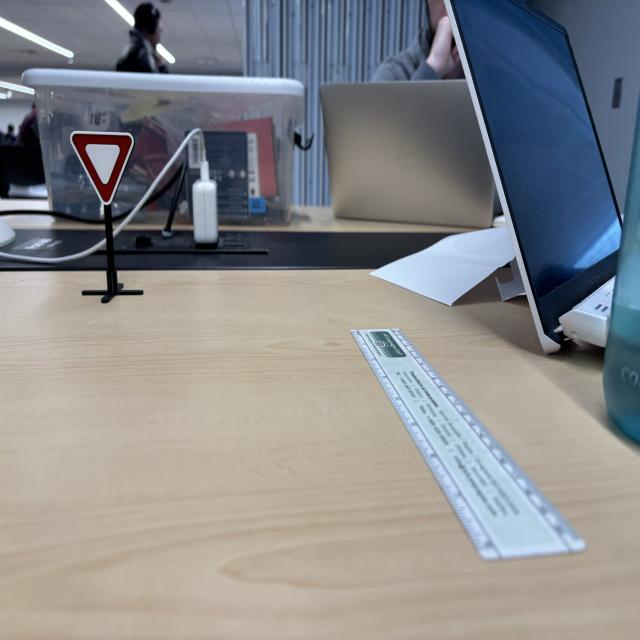sign_yield: (69, 131, 136, 207)
